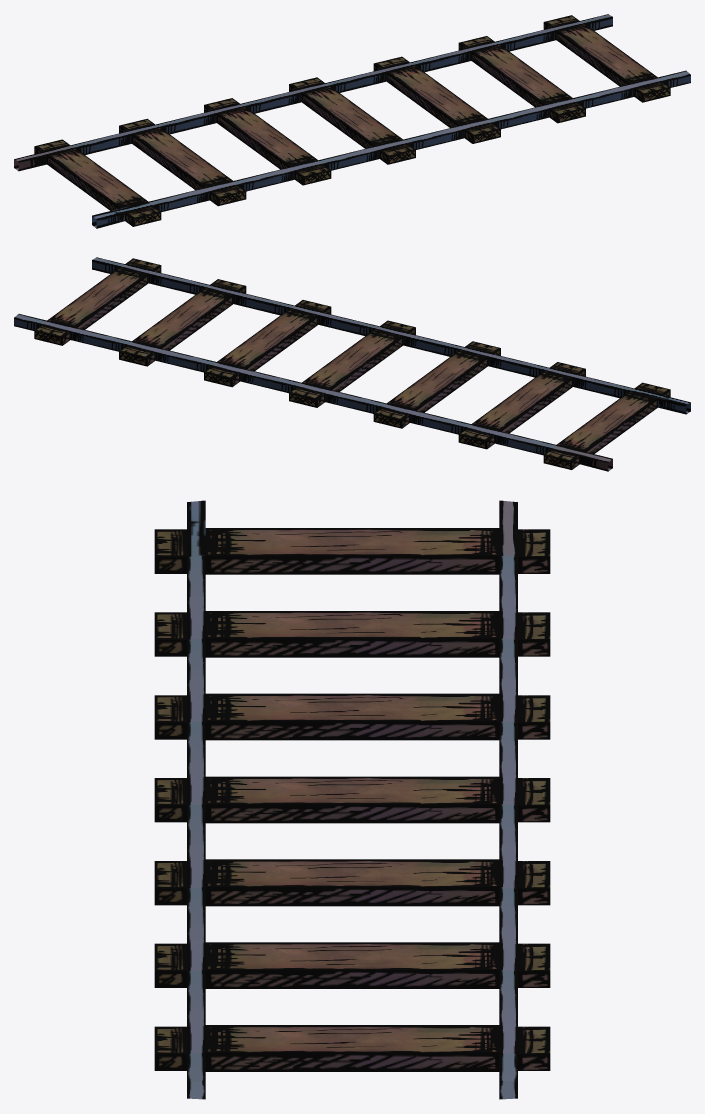
File: 7_track.fbx
3 views of the same model, one above another, from view 1: azimuth 30°, elevation 25°; view 2: azimuth 150°, elevation 25°; view 3: azimuth 270°, elevation 25° (orthographic). The views are drawn at different scales.
Parts seen in each view (by area): view 1: 7_track; view 2: 7_track; view 3: 7_track.
Boxes of the visible parts, x1,y1,x2,y2 form: 7_track: (14, 14, 690, 228); 7_track: (14, 257, 690, 471); 7_track: (154, 500, 550, 1099).
Bounding box in the file's own units: 1784 × 28.5 × 514.
